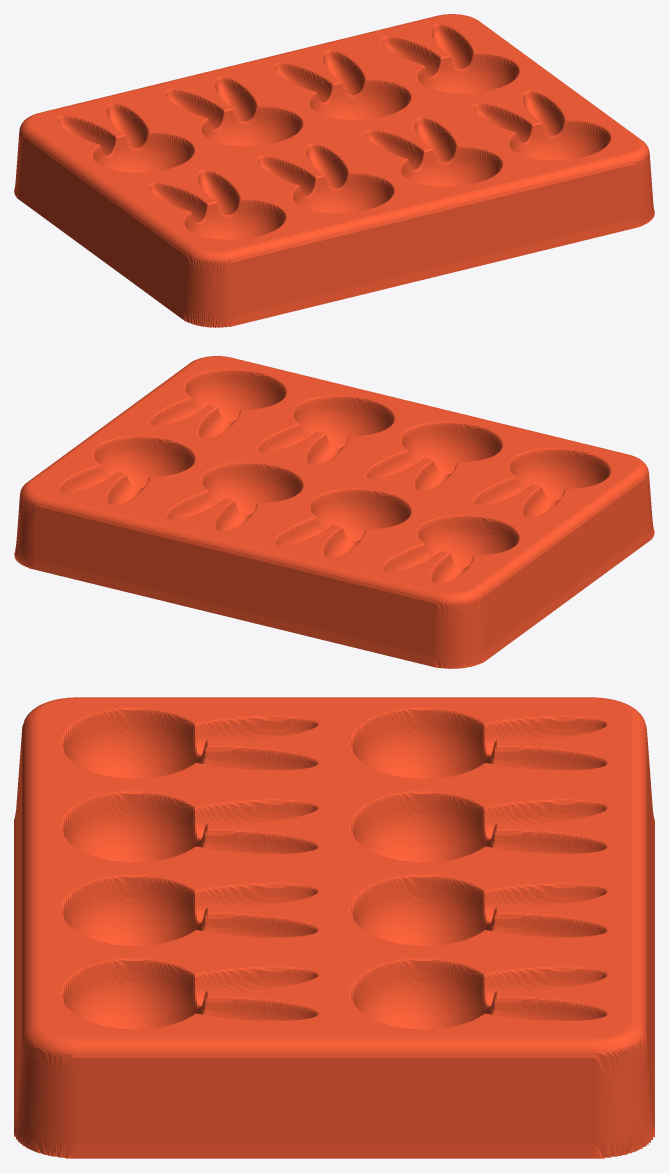
Rendered from mold.glb.
The picture shows the model from 3 angles, top to bottom: view 1: azimuth 30°, elevation 25°; view 2: azimuth 150°, elevation 25°; view 3: azimuth 270°, elevation 25°; orthographic projection. The views are drawn at different scales.
Parts seen in each view (by area): view 1: geometry_0; view 2: geometry_0; view 3: geometry_0.
Boxes of the visible parts, <box> form: geometry_0: <box>14,14,654,327</box>; geometry_0: <box>14,356,654,668</box>; geometry_0: <box>14,697,654,1158</box>.
Size of the model in its own units: 0.1233 by 0.0175 by 0.0926.
